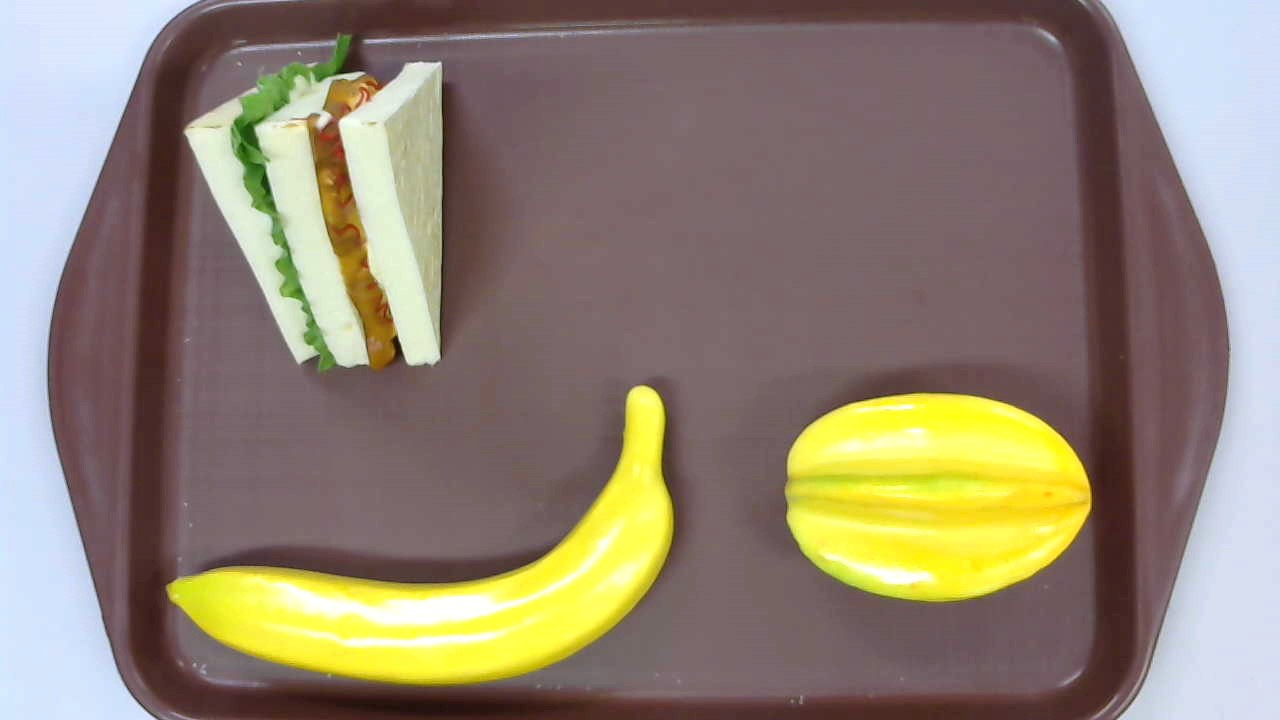banana: (162, 384, 675, 686)
sandwich: (182, 31, 444, 371)
star fruit: (783, 391, 1091, 606)
